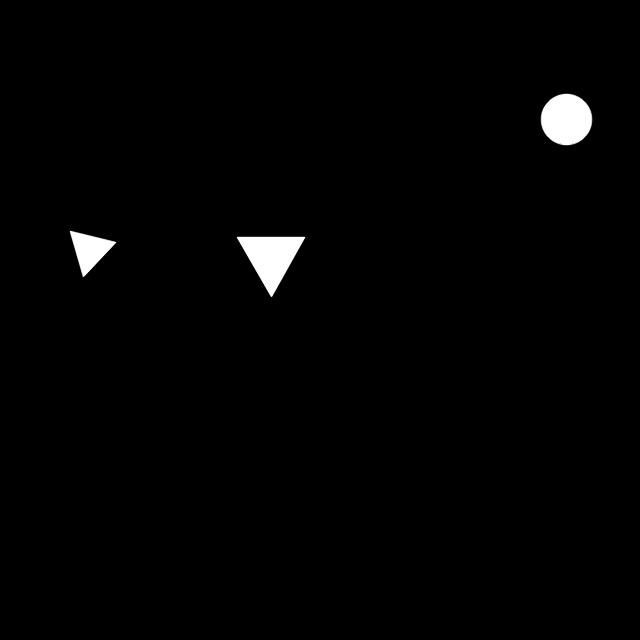Circle: (534, 86, 598, 157)
Triangle: (223, 217, 313, 308), (64, 219, 120, 288)
